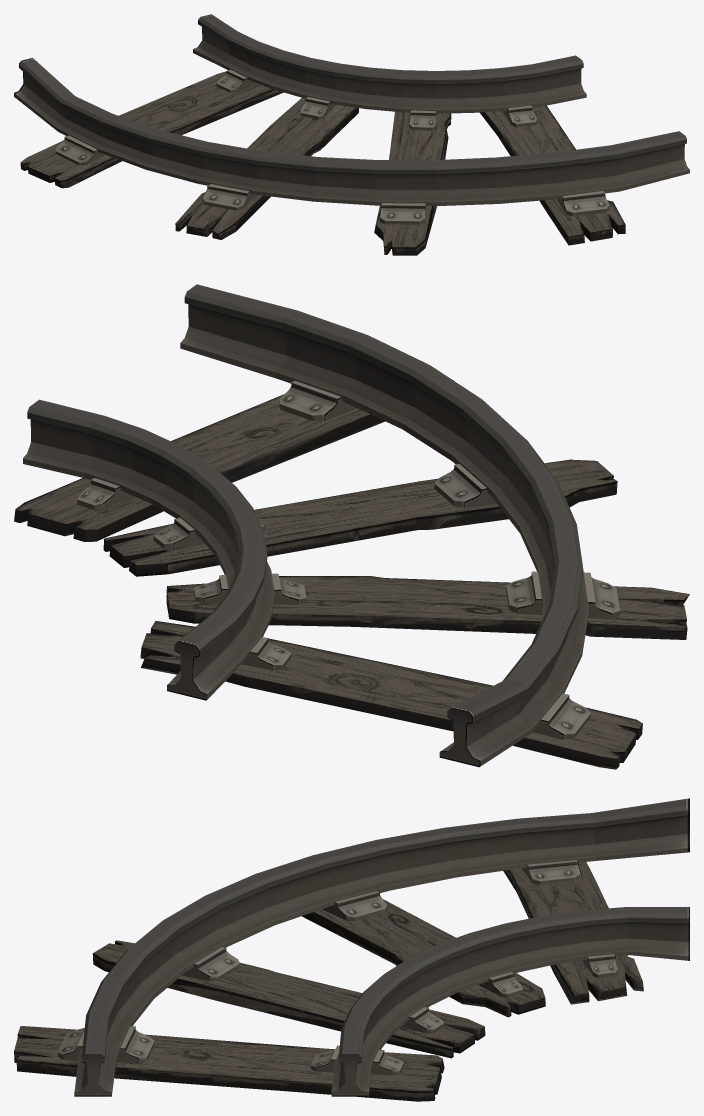
File: mines_tracks_ne_01.fbx
The picture shows the model from 3 angles, top to bottom: view 1: azimuth 30°, elevation 25°; view 2: azimuth 150°, elevation 25°; view 3: azimuth 270°, elevation 25°; orthographic projection. The views are drawn at different scales.
Parts seen in each view (by area): view 1: mines_tracks_ne_01; view 2: mines_tracks_ne_01; view 3: mines_tracks_ne_01.
Part boxes in pixels (x1=…): mines_tracks_ne_01: x1=14, y1=14, x2=689, y2=255; mines_tracks_ne_01: x1=14, y1=284, x2=689, y2=769; mines_tracks_ne_01: x1=14, y1=798, x2=689, y2=1101.
Bounding box in the file's own units: 185 × 24.45 × 185.
